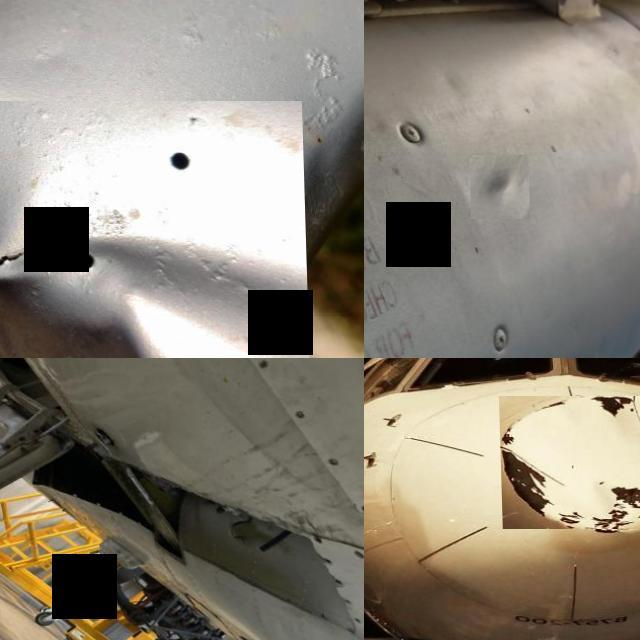Crack: (135, 213, 281, 326)
Dent: (0, 101, 308, 358), (499, 397, 640, 529), (468, 155, 528, 219)
Missing_Fastener: (292, 410, 306, 420), (256, 359, 268, 369), (326, 458, 338, 468), (312, 536, 322, 544), (357, 504, 364, 512), (323, 558, 330, 566)
